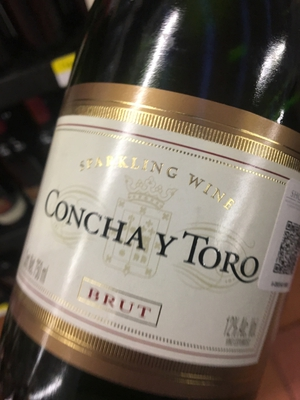brut: (10, 33, 300, 389)
